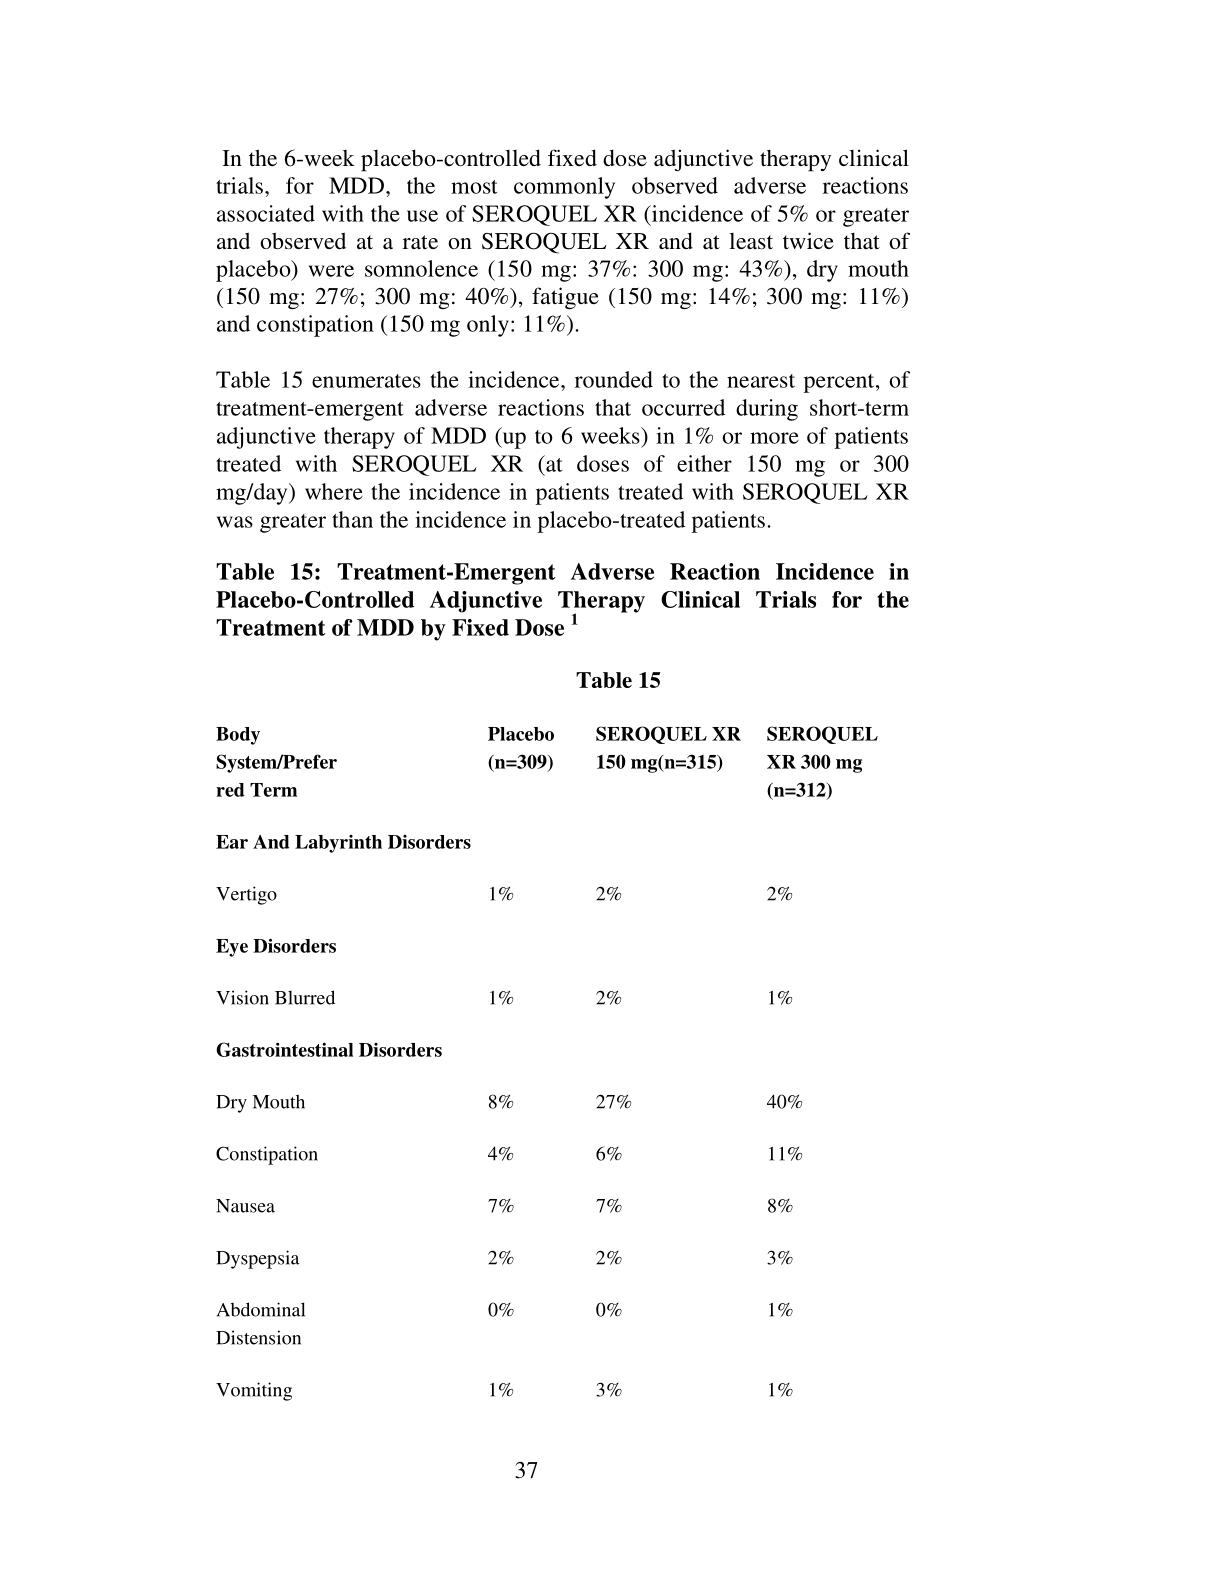nolines: (213, 723, 883, 1403)
